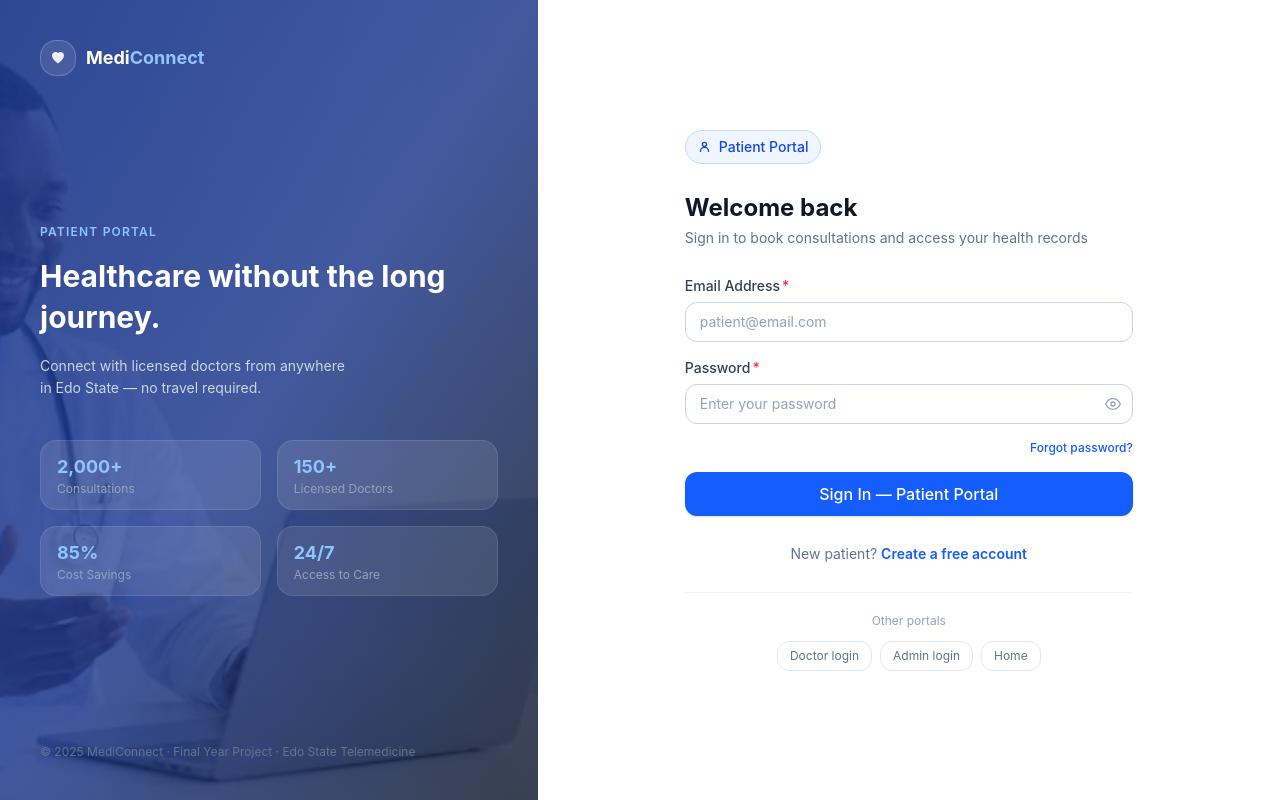
Login page — patient role › shows validation error when submitting empty email
Click the button "Sign In — Patient Portal".
click(909, 494)  # box [685,472,1133,516]
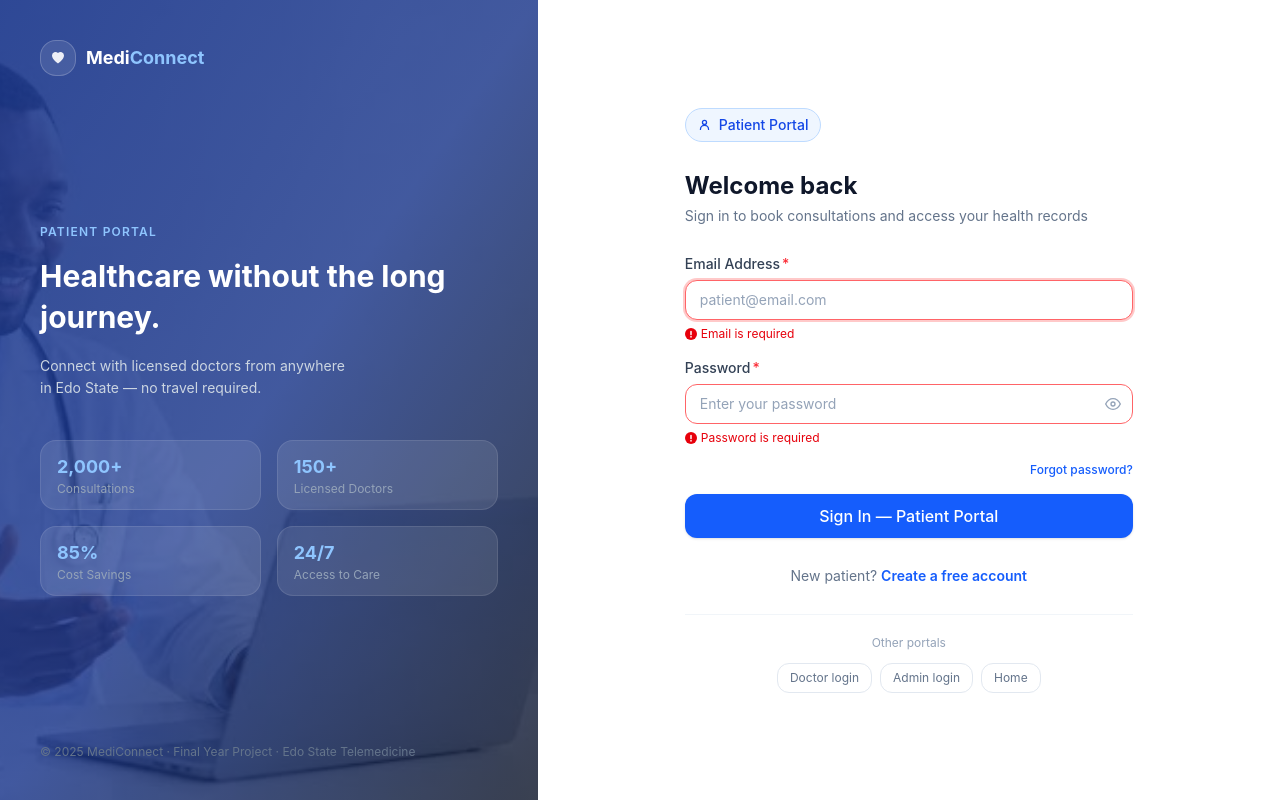
Expected: the text "Email is required" is shown, [685,326,794,340]
